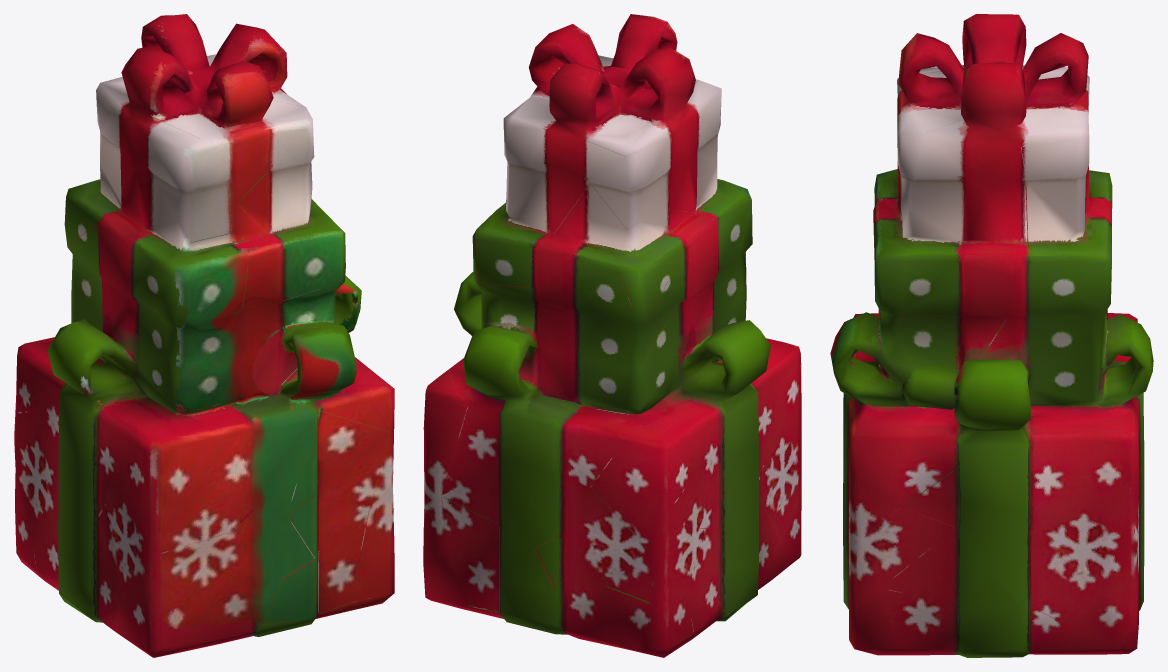
File: presents.glb
3 renders of one model, left to right at view 1: azimuth 30°, elevation 25°; view 2: azimuth 150°, elevation 25°; view 3: azimuth 270°, elevation 25°, orthographic. The views are drawn at different scales.
Parts seen in each view (by area): view 1: geometry_0; view 2: geometry_0; view 3: geometry_0.
Boxes of the visible parts, left/top/right/bottom form: geometry_0: left=14, top=14, right=394, bottom=657; geometry_0: left=423, top=14, right=801, bottom=657; geometry_0: left=830, top=14, right=1153, bottom=657.
Bounding box in the file's own units: 1.11 × 2 × 1.04.
Materials: 1 (1 with a texture image).
